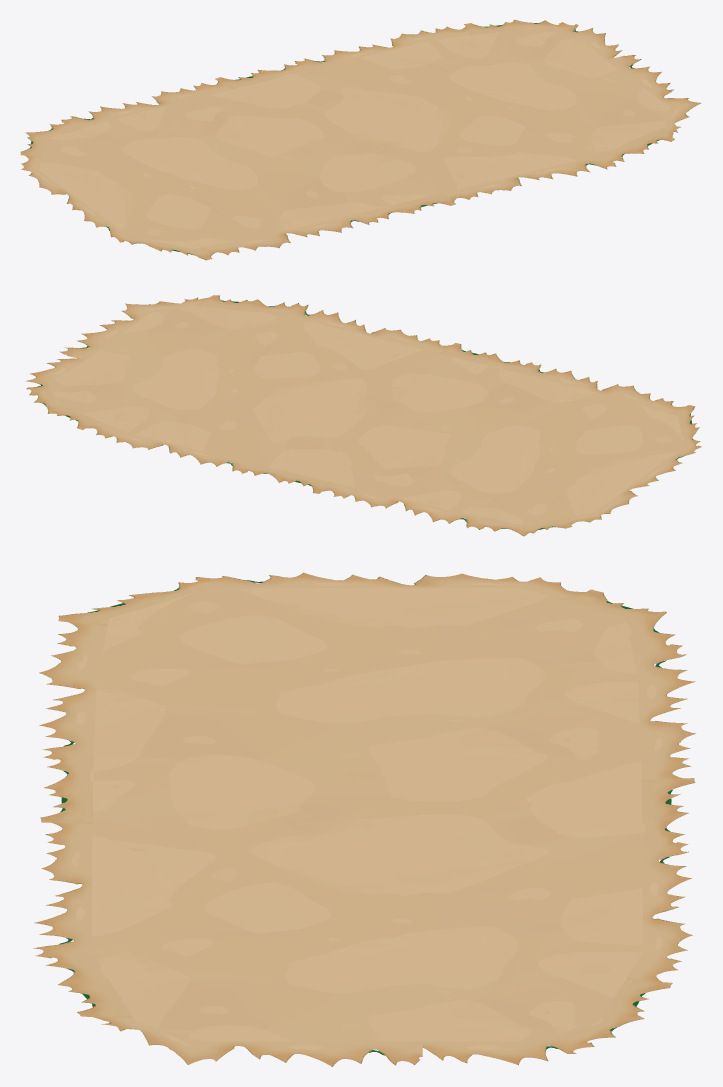
The model's file is Small boi.fbx.
3 views of the same model, one above another, from view 1: azimuth 30°, elevation 25°; view 2: azimuth 150°, elevation 25°; view 3: azimuth 270°, elevation 25° (orthographic). The views are drawn at different scales.
Parts seen in each view (by area): view 1: pPlane3; view 2: pPlane3; view 3: pPlane3.
Part boxes in pixels (x1,y1,x2,y2): pPlane3: (20,19,701,260); pPlane3: (25,295,701,536); pPlane3: (33,572,696,1066).
Bounding box in the file's own units: 2.38 × 1.65e-17 × 1.39.
